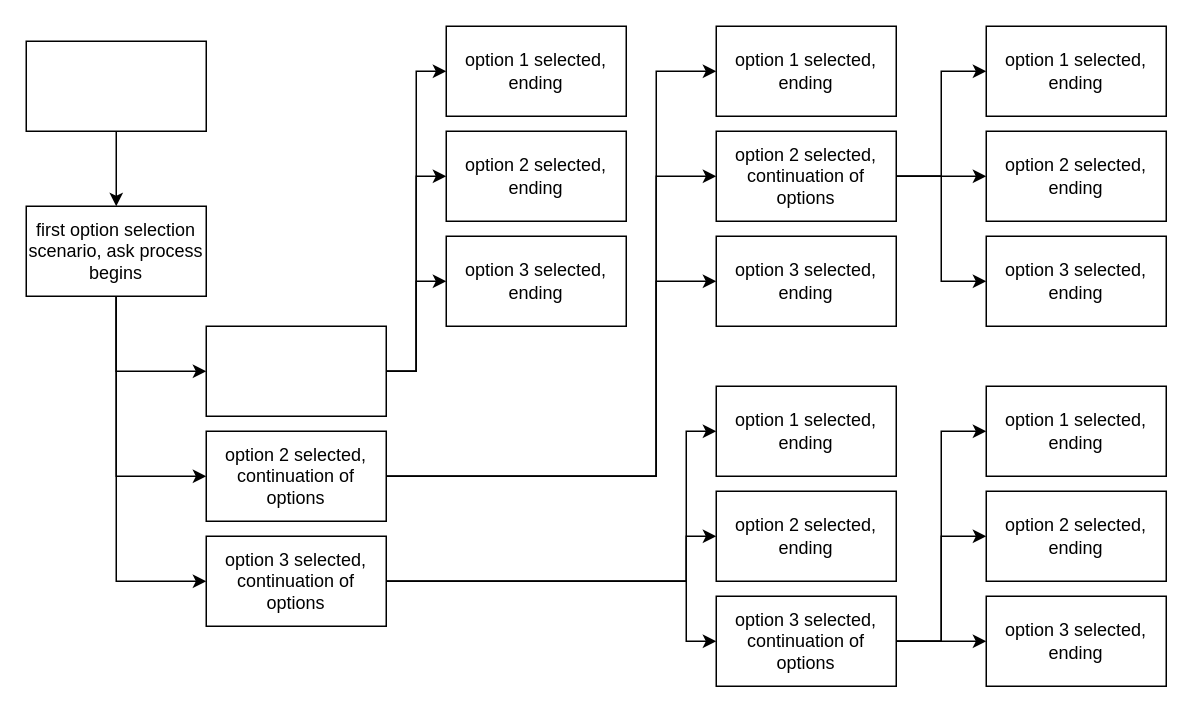
The diagram is 1193 pixels wide and 713 high, and some of its shapes have lost their labels. Each missing label, with the centre of its shape:
option 1 selected, continuation of options: the point at 295,370
program start, intro: the point at 115,85
